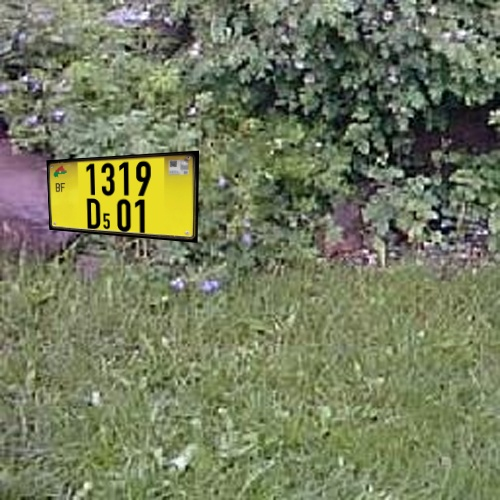plate: (39, 136, 209, 257)
